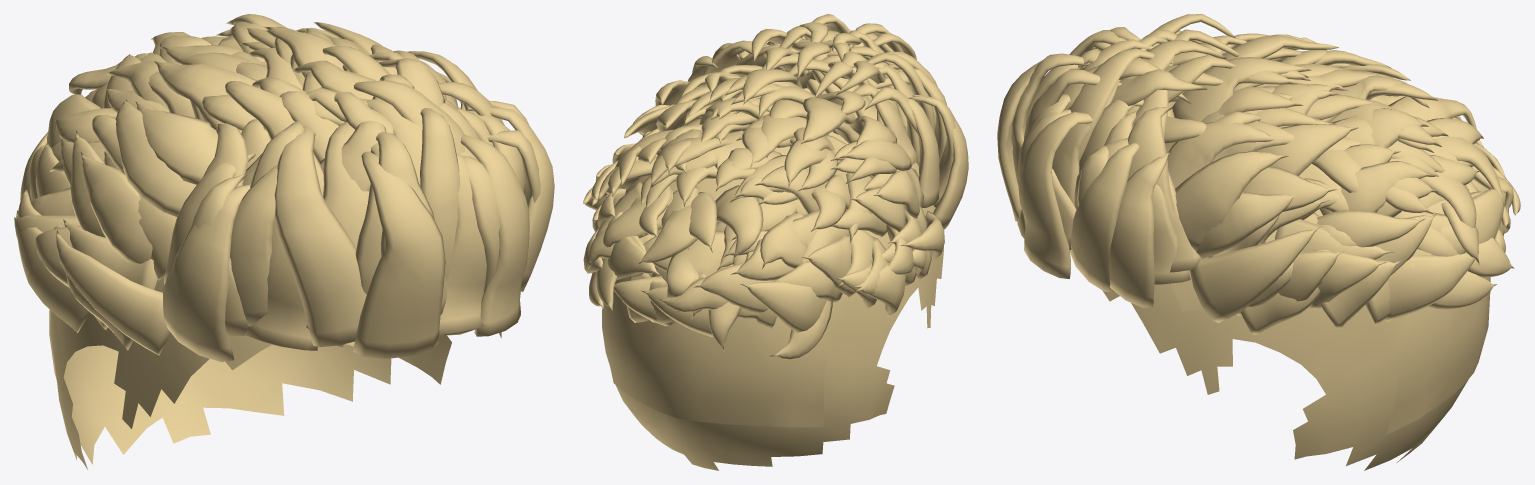
The model's file is hair_anime_male_messy_textured_quiff.glb.
3 views of the same model, side by side, from view 1: azimuth 30°, elevation 25°; view 2: azimuth 150°, elevation 25°; view 3: azimuth 270°, elevation 25° (orthographic). The views are drawn at different scales.
Visible parts, largest first — view 1: AM_Hair_MessyTexturedQuiff.001; view 2: AM_Hair_MessyTexturedQuiff.001; view 3: AM_Hair_MessyTexturedQuiff.001.
Part boxes in pixels (box(x1,y1,x2,y2)): AM_Hair_MessyTexturedQuiff.001: box(14, 14, 554, 469); AM_Hair_MessyTexturedQuiff.001: box(583, 14, 968, 470); AM_Hair_MessyTexturedQuiff.001: box(997, 14, 1520, 470).
Size of the model in its own units: 0.1897 by 0.2028 by 0.2421.
